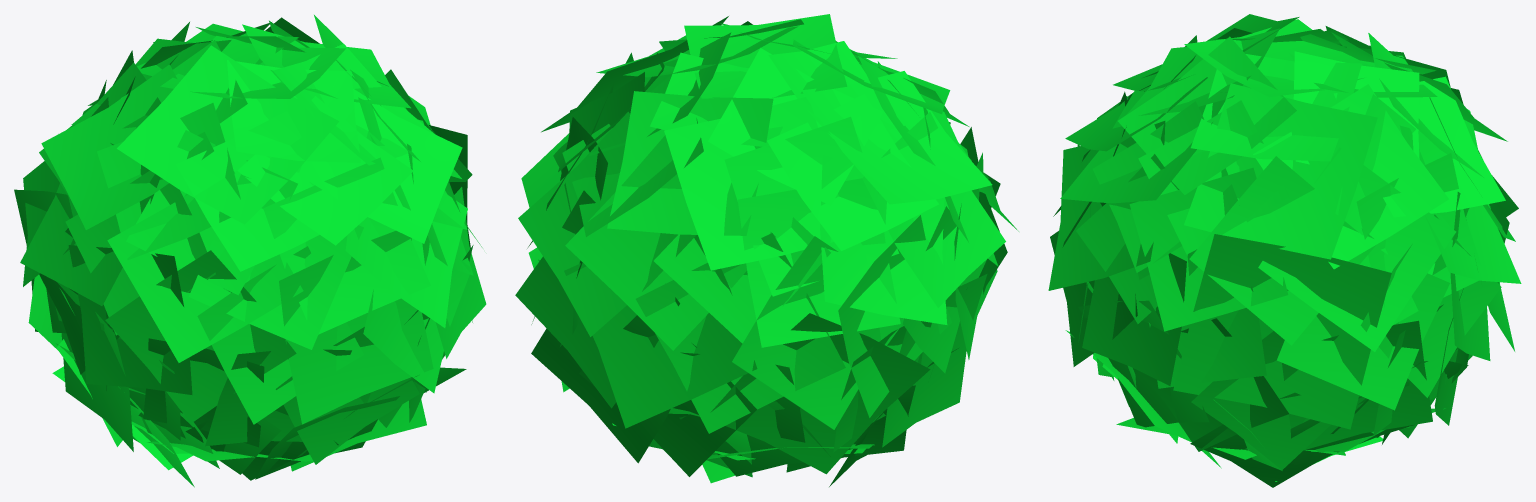
The model's file is bushfordevin.fbx.
3 views of the same model, side by side, from view 1: azimuth 30°, elevation 25°; view 2: azimuth 150°, elevation 25°; view 3: azimuth 270°, elevation 25° (orthographic). The views are drawn at different scales.
Visible parts, largest first — view 1: BushSmall; view 2: BushSmall; view 3: BushSmall.
Part boxes in pixels (x1,y1,x2,y2): BushSmall: (14,15,486,487); BushSmall: (515,14,1018,486); BushSmall: (1048,14,1521,487).
Size of the model in its own units: 235 by 229 by 237.
